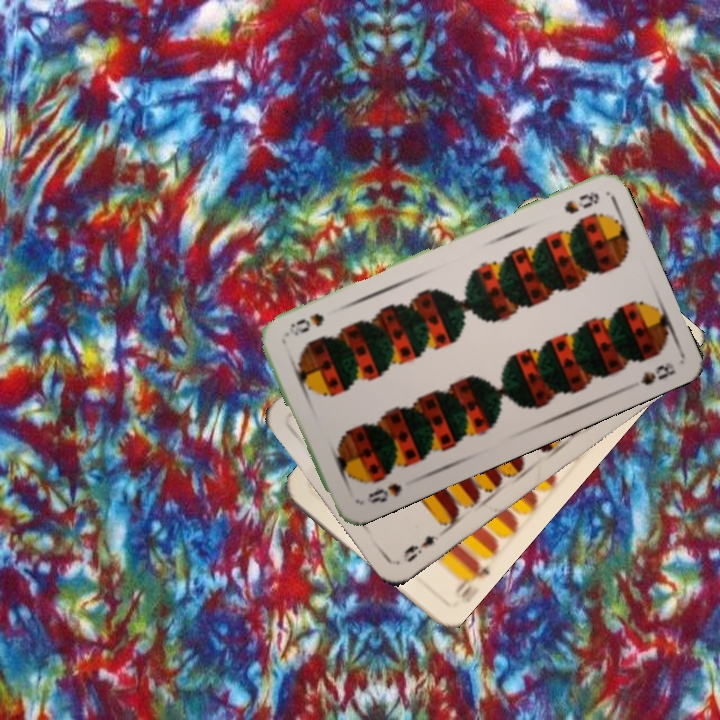E10: (450, 555, 493, 602)
E9: (398, 531, 442, 565)
S8: (560, 187, 602, 217), (363, 479, 404, 506)
